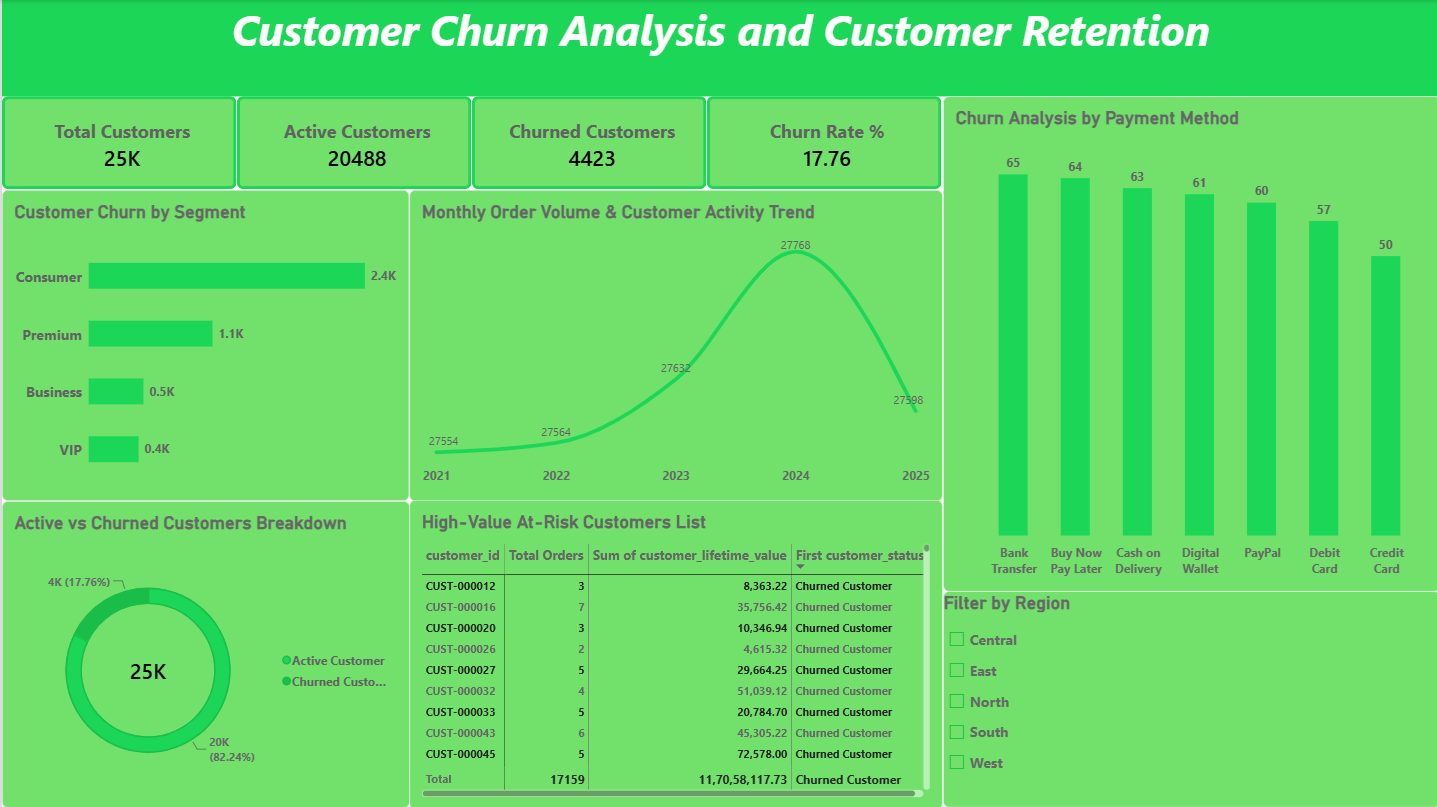

This screenshot's page, from the dashboard's own definition file:
{"tool":"powerbi","page":{"name":"Page 1","canvas":[1920,1080],"ordinal":0},"visuals":[{"type":"cardVisual","fields":{"Data":["ecommerce_analytics_db ecommerce_master_final.Total Customers"]},"box":[0,128.7,313.9,124.8],"z":0},{"type":"textbox","box":[0,0,1920.4,128.8],"z":1000},{"type":"cardVisual","fields":{"Data":["ecommerce_analytics_db ecommerce_master_final.Active Customers"]},"box":[313.9,128.7,313.9,124.8],"z":2000},{"type":"cardVisual","fields":{"Data":["ecommerce_analytics_db ecommerce_master_final.Churned Customers"]},"box":[627.8,128.7,313.9,124.8],"z":3000},{"type":"cardVisual","fields":{"Data":["ecommerce_analytics_db ecommerce_master_final.Churn Rate %"]},"box":[941.7,128.7,313.9,124.8],"z":4000},{"type":"clusteredBarChart","title":"Customer Churn by Segment","fields":{"Category":["ecommerce_analytics_db ecommerce_master_final.customer_segment"],"Y":["ecommerce_analytics_db ecommerce_master_final.Churned Customers"]},"box":[0,253.5,543.9,415.3],"z":5000},{"type":"lineChart","title":"Monthly Order Volume & Customer Activity Trend","fields":{"Category":["ecommerce_analytics_db ecommerce_master_final.order_date.Variation.Date Hierarchy.Year","ecommerce_analytics_db ecommerce_master_final.order_date.Variation.Date Hierarchy.Month"],"Y":["ecommerce_analytics_db ecommerce_master_final.Total Orders"]},"box":[544.8,254,725.2,416],"z":6000},{"type":"donutChart","title":"Active vs Churned Customers Breakdown","fields":{"Category":["ecommerce_analytics_db ecommerce_master_final.customer_status"],"Y":["ecommerce_analytics_db ecommerce_master_final.Total Customers"]},"box":[0,669.9,530.1,408.6],"z":7000},{"type":"columnChart","title":"Churn Analysis by Payment Method","fields":{"Category":["ecommerce_analytics_db ecommerce_master_final.payment_method"],"Y":["ecommerce_analytics_db ecommerce_master_final.Churn Rate %"]},"box":[1269.9,128.8,649.7,660.7],"z":8000},{"type":"tableEx","title":"High-Value At-Risk Customers List","fields":{"Values":["ecommerce_analytics_db ecommerce_master_final.customer_id","ecommerce_analytics_db ecommerce_master_final.Total Orders","Sum(ecommerce_analytics_db ecommerce_master_final.customer_lifetime_value)","Min(ecommerce_analytics_db ecommerce_master_final.customer_status)"]},"box":[530.1,669.9,739.9,410.4],"z":9000},{"type":"slicer","title":"Filter by Region","fields":{"Values":["ecommerce_analytics_db ecommerce_master_final.region"]},"box":[1269.9,789.6,649.7,289],"z":10000}]}

Visuals, with their boxes in screenshot pixels (x1, y1, x2, y2), scaled from the page's 1920x1080 canvas onto the 1437x807 screenshot:
cardVisual - ecommerce_analytics_db ecommerce_master_final.Total Customers: 0/96/235/189
textbox: 0/0/1436/96
cardVisual - ecommerce_analytics_db ecommerce_master_final.Active Customers: 235/96/470/189
cardVisual - ecommerce_analytics_db ecommerce_master_final.Churned Customers: 470/96/705/189
cardVisual - ecommerce_analytics_db ecommerce_master_final.Churn Rate %: 705/96/940/189
"Customer Churn by Segment" clusteredBarChart: 0/189/407/500
"Monthly Order Volume & Customer Activity Trend" lineChart: 408/190/951/501
"Active vs Churned Customers Breakdown" donutChart: 0/501/397/806
"Churn Analysis by Payment Method" columnChart: 950/96/1436/590
"High-Value At-Risk Customers List" tableEx: 397/501/951/806
"Filter by Region" slicer: 950/590/1436/806
